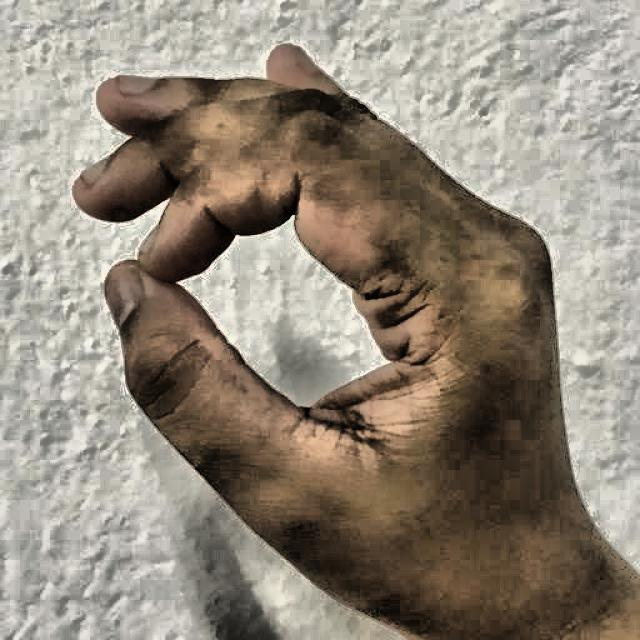Yo: (49, 20, 598, 629)
